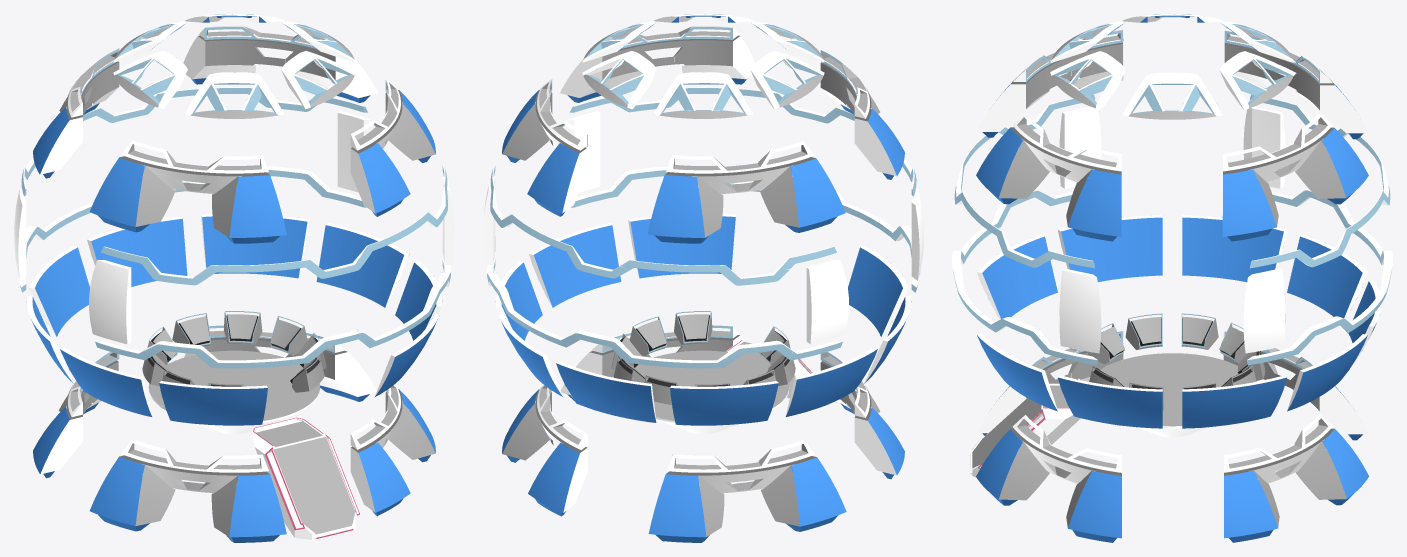
File: relic_03.glb
The picture shows the model from 3 angles, left to right: view 1: azimuth 30°, elevation 25°; view 2: azimuth 150°, elevation 25°; view 3: azimuth 270°, elevation 25°; orthographic projection.
Parts seen in each view (by area): view 1: command, command.003, command.005, emission_, command.001, command.006, command.002, emission_03, console.002, console.003, console.001, emission.001 (+3 smaller); view 2: command, command.003, command.006, emission_, command.002, command.005, emission_03, command.001, console.005, console.004, console.007, emission_02.007 (+1 smaller); view 3: command, command.003, command.001, command.002, emission_, emission_03, command.006, command.005, console.008, console.007, console.006, console.
Part boxes in pixels (left/top/right/bottom): command: left=14, top=14, right=454, bottom=539; command.003: left=33, top=26, right=435, bottom=243; command.005: left=89, top=439, right=286, bottom=542; emission_: left=20, top=88, right=450, bottom=368; command.001: left=350, top=385, right=435, bottom=515; command.006: left=33, top=352, right=118, bottom=478; command.002: left=184, top=330, right=376, bottom=401; emission_03: left=117, top=14, right=351, bottom=113; console.002: left=224, top=311, right=262, bottom=344; console.003: left=270, top=316, right=307, bottom=355; console.001: left=172, top=313, right=210, bottom=346; emission.001: left=253, top=417, right=359, bottom=538; command: left=483, top=14, right=923, bottom=433; command.003: left=502, top=26, right=904, bottom=243; command.006: left=648, top=440, right=846, bottom=542; emission_: left=487, top=88, right=917, bottom=368; command.002: left=502, top=385, right=587, bottom=516; command.005: left=820, top=352, right=904, bottom=479; emission_03: left=586, top=14, right=820, bottom=113; command.001: left=560, top=327, right=744, bottom=401; console.005: left=674, top=311, right=712, bottom=345; console.004: left=629, top=317, right=666, bottom=356; console.007: left=767, top=348, right=795, bottom=385; emission_02.007: left=610, top=27, right=732, bottom=48; command: left=952, top=14, right=1392, bottom=477; command.003: left=976, top=29, right=1368, bottom=241; command.001: left=976, top=415, right=1121, bottom=542; command.002: left=1224, top=414, right=1368, bottom=542; emission_: left=953, top=94, right=1391, bottom=365; emission_03: left=1054, top=14, right=1290, bottom=113; command.006: left=1223, top=331, right=1368, bottom=440; command.005: left=976, top=331, right=1123, bottom=435; console.008: left=1181, top=314, right=1218, bottom=349; console.007: left=1125, top=314, right=1162, bottom=349; console.006: left=1087, top=324, right=1124, bottom=364; console: left=1219, top=323, right=1247, bottom=363.
Size of what is drawn, in the model's own units: 8.08 by 8.93 by 8.47.
Materials: 2 (2 with a texture image).
